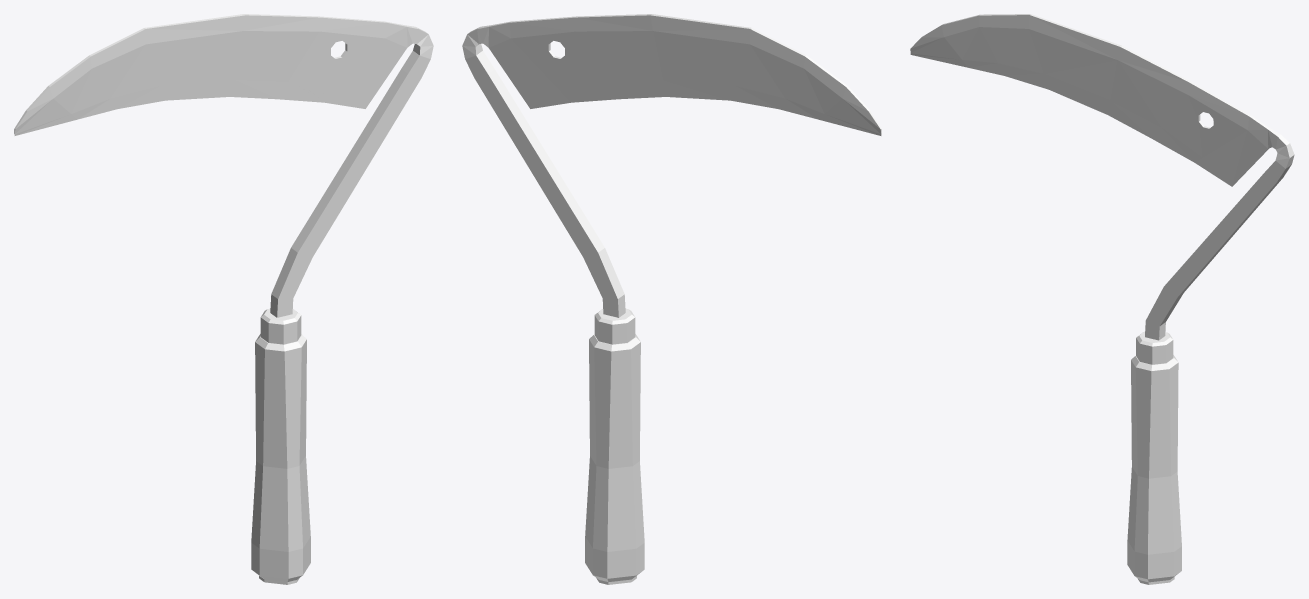
Rendered from Tool_Hand_Scythe_02.glb.
The picture shows the model from 3 angles, left to right: view 1: azimuth 30°, elevation 25°; view 2: azimuth 150°, elevation 25°; view 3: azimuth 330°, elevation 25°; orthographic projection. The views are drawn at different scales.
Visible parts, largest first — view 1: Tool_Hand Scythe_02; view 2: Tool_Hand Scythe_02; view 3: Tool_Hand Scythe_02.
Boxes of the visible parts, x1,y1,x2,y2 form: Tool_Hand Scythe_02: (14, 14, 433, 584); Tool_Hand Scythe_02: (462, 14, 881, 584); Tool_Hand Scythe_02: (910, 14, 1294, 584).
Size of the model in its own units: 0.3833 by 0.5104 by 0.0471.
Materials: 1 (1 with a texture image).
